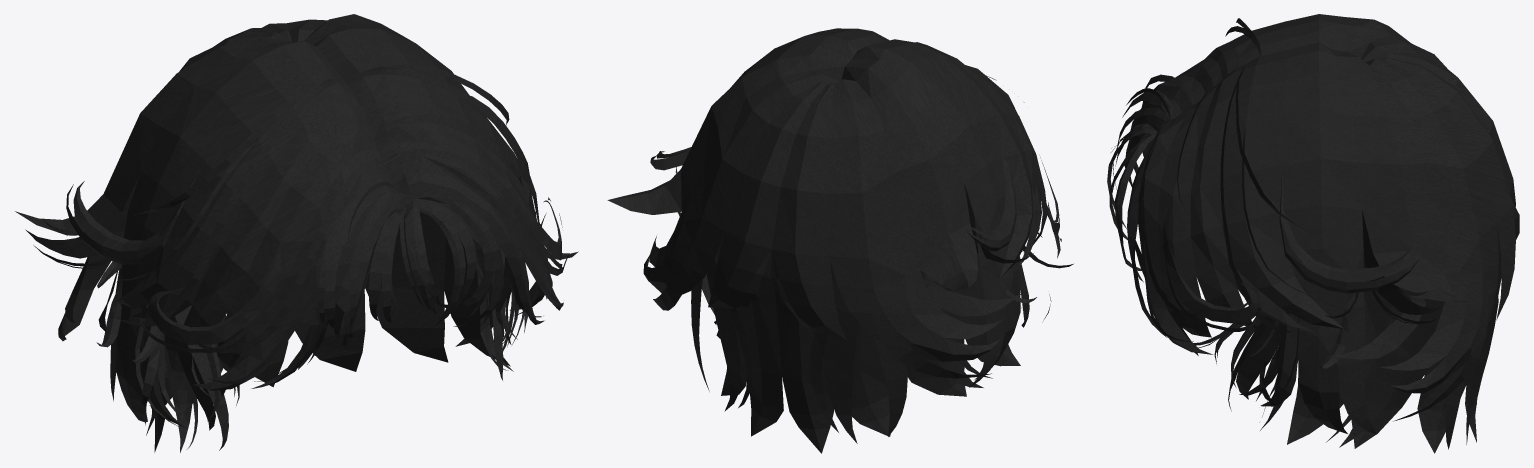
3 renders of one model, left to right at view 1: azimuth 30°, elevation 25°; view 2: azimuth 150°, elevation 25°; view 3: azimuth 270°, elevation 25°, orthographic. The views are drawn at different scales.
Parts seen in each view (by area): view 1: geometry_0; view 2: geometry_0; view 3: geometry_0.
Part boxes in pixels (x1,y1,x2,y2): geometry_0: [15, 14, 578, 452]; geometry_0: [607, 28, 1073, 453]; geometry_0: [1107, 14, 1519, 453].
Bounding box in the file's own units: 1.94 × 1.75 × 1.69.
Materials: 1 (1 with a texture image).
